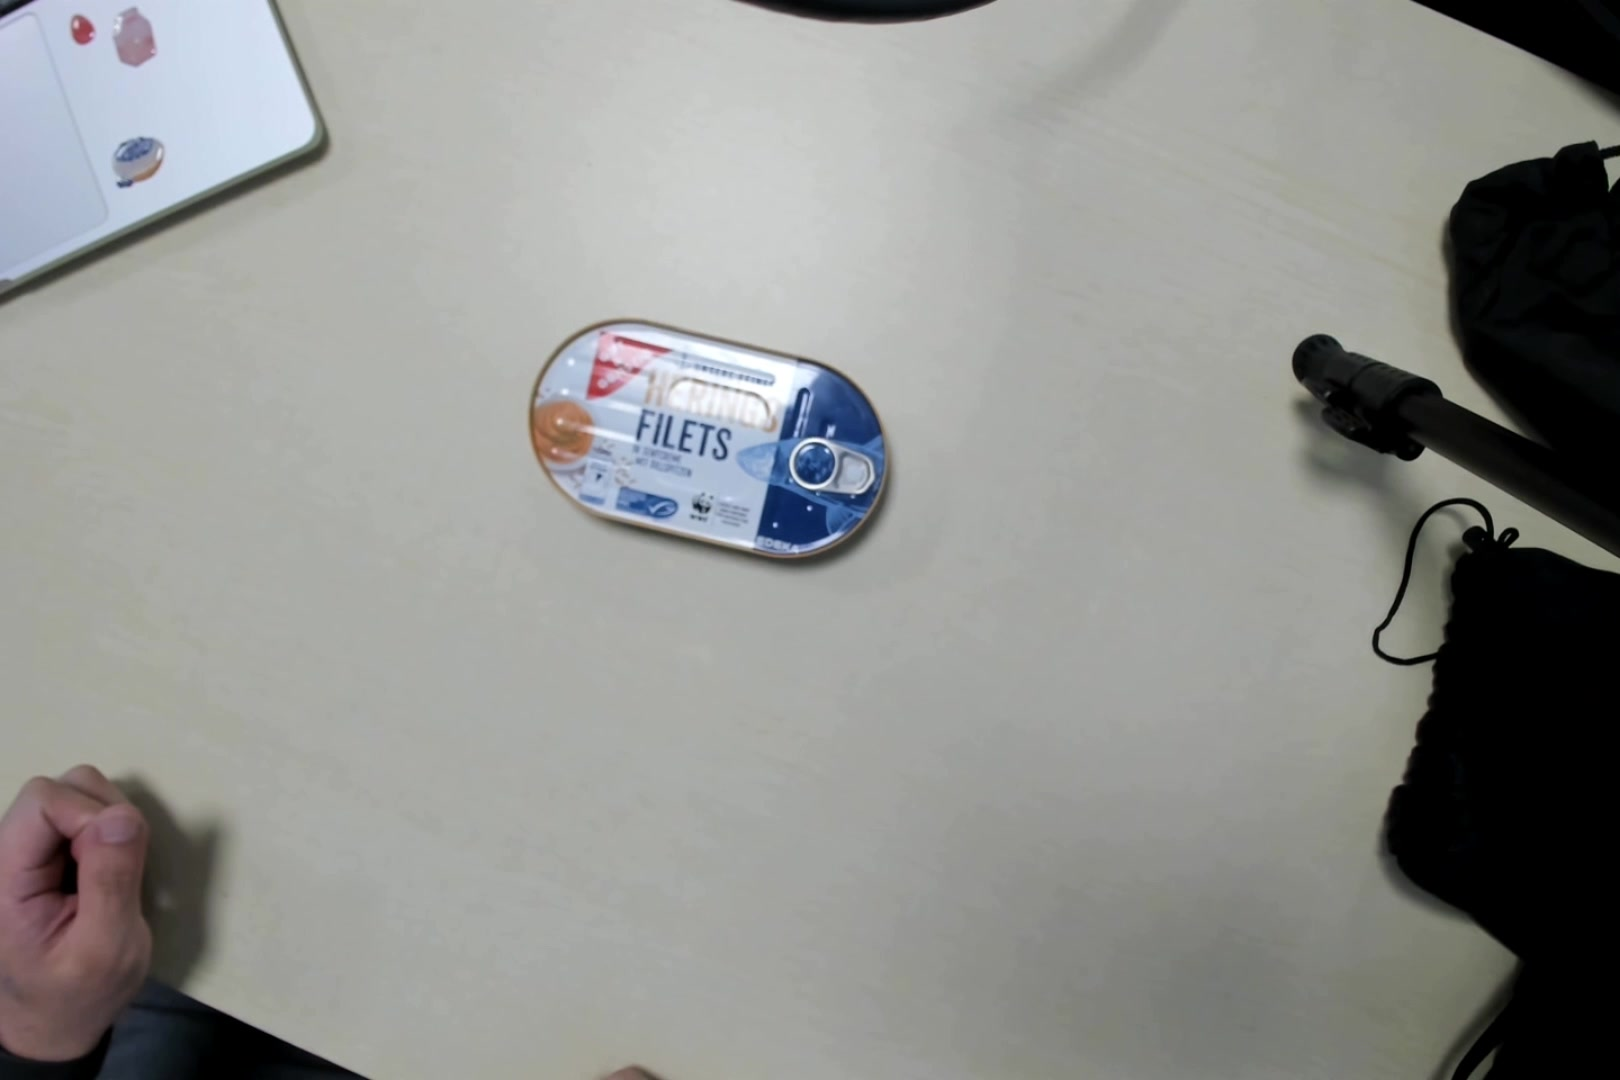OtherCannedSeafood_100-199g_Halal_NonHealthy: (527, 312, 886, 568)
